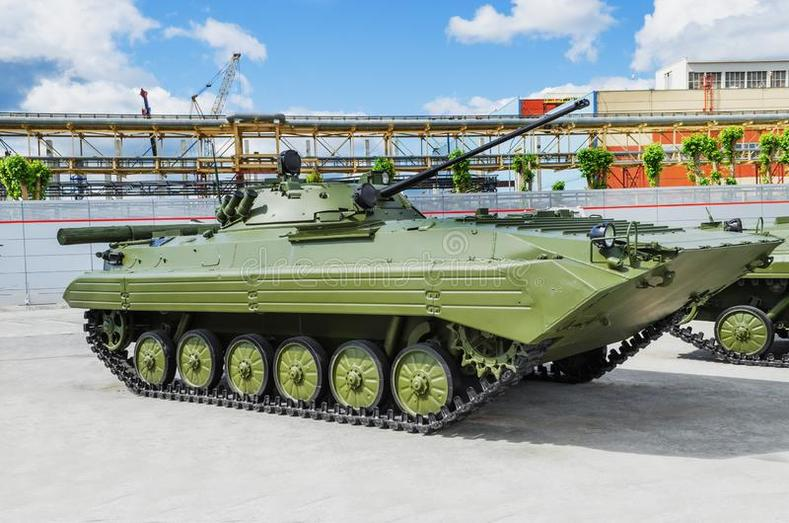bmp: (73, 133, 776, 430)
